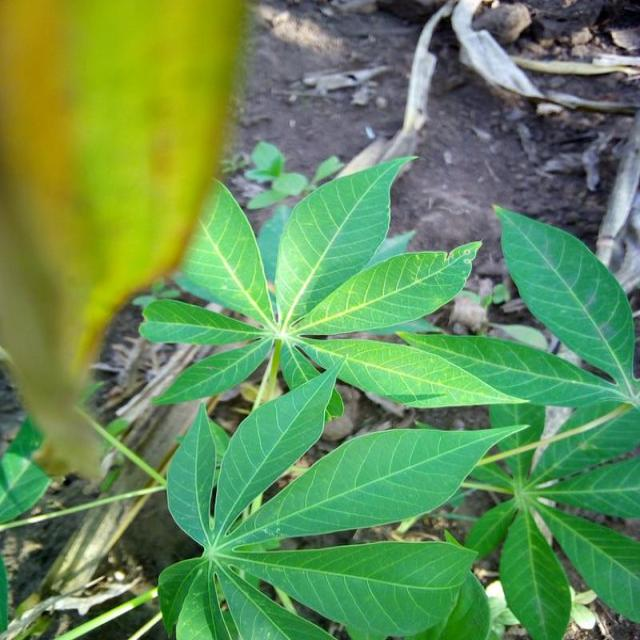cassava leaf: (139, 153, 638, 638), (215, 420, 530, 547), (490, 201, 637, 398), (273, 153, 418, 330), (211, 362, 341, 540), (290, 238, 482, 336), (172, 176, 275, 330)
